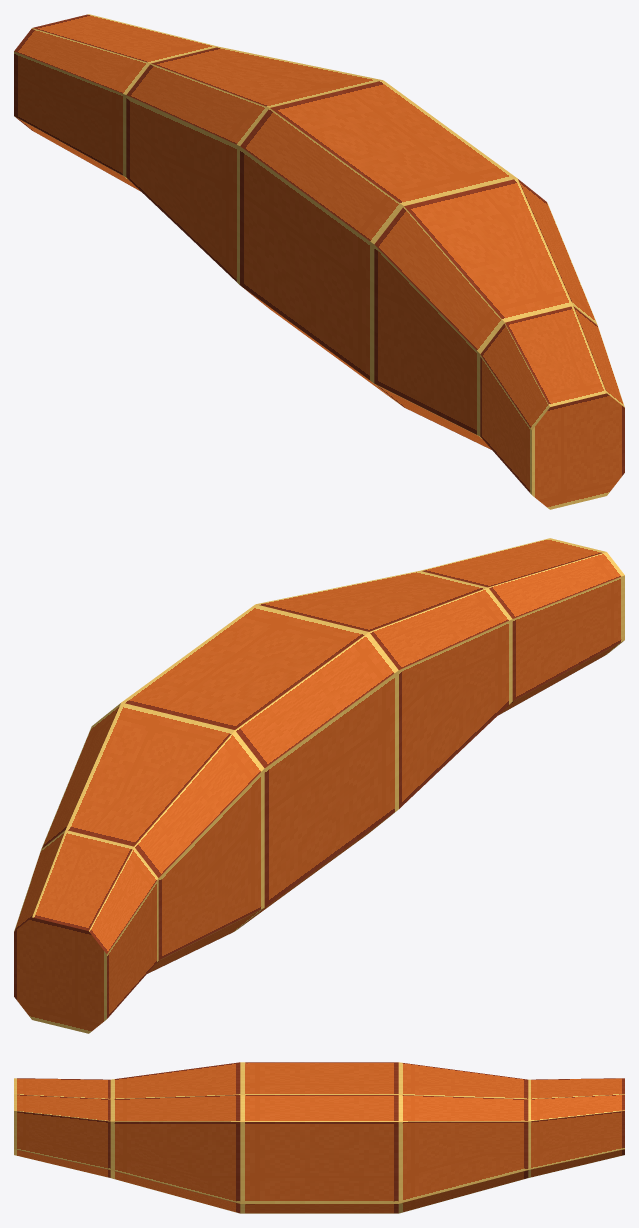
File: bench_pickaxe_0_hot.obj
3 views of the same model, one above another, from view 1: azimuth 30°, elevation 25°; view 2: azimuth 150°, elevation 25°; view 3: azimuth 270°, elevation 25° (orthographic). The views are drawn at different scales.
Visible parts, largest first — view 1: geometry; view 2: geometry; view 3: geometry.
Part boxes in pixels (x1,y1,x2,y2): geometry: (14,14,624,509); geometry: (14,538,624,1033); geometry: (14,1062,624,1213).
Bounding box in the file's own units: 0.1732 × 0.1608 × 0.75.
